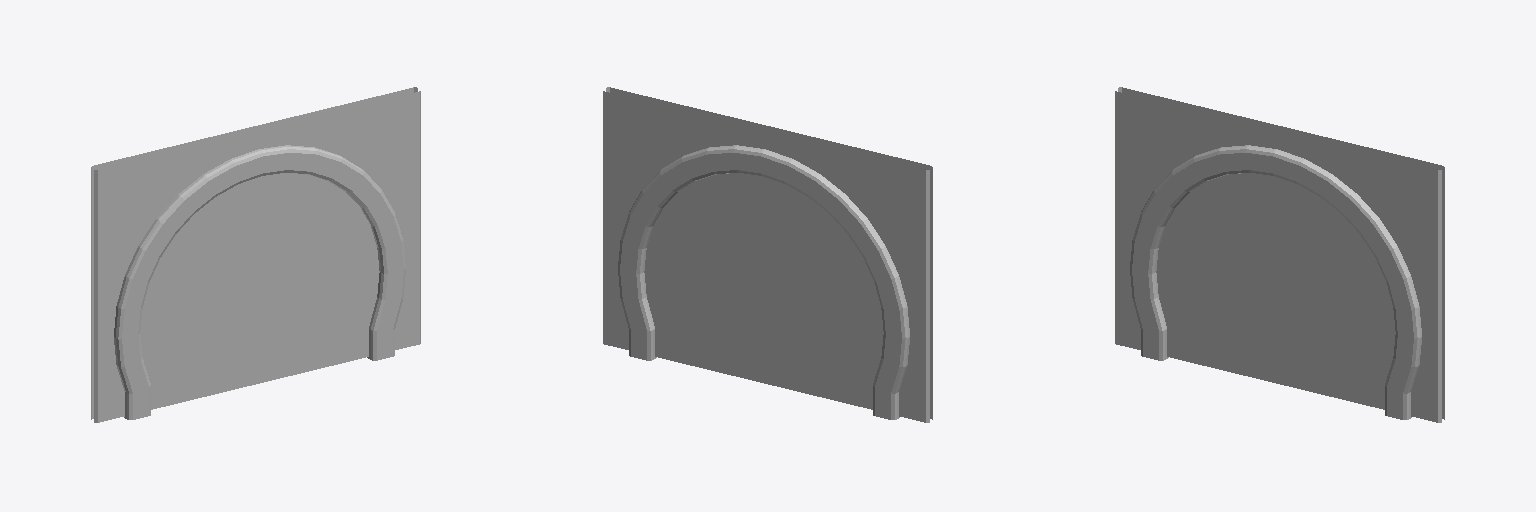
Rendered from tunnel_hole_2.obj.
3 views of the same model, side by side, from view 1: azimuth 30°, elevation 25°; view 2: azimuth 150°, elevation 25°; view 3: azimuth 330°, elevation 25° (orthographic).
Parts seen in each view (by area): view 1: tunnel_hole_2; view 2: tunnel_hole_2; view 3: tunnel_hole_2.
Part boxes in pixels (x1,y1,x2,y2): tunnel_hole_2: (91, 87, 420, 422); tunnel_hole_2: (603, 87, 932, 422); tunnel_hole_2: (1115, 87, 1444, 422).
Size of the model in its own units: 4.06 by 3.02 by 0.3.